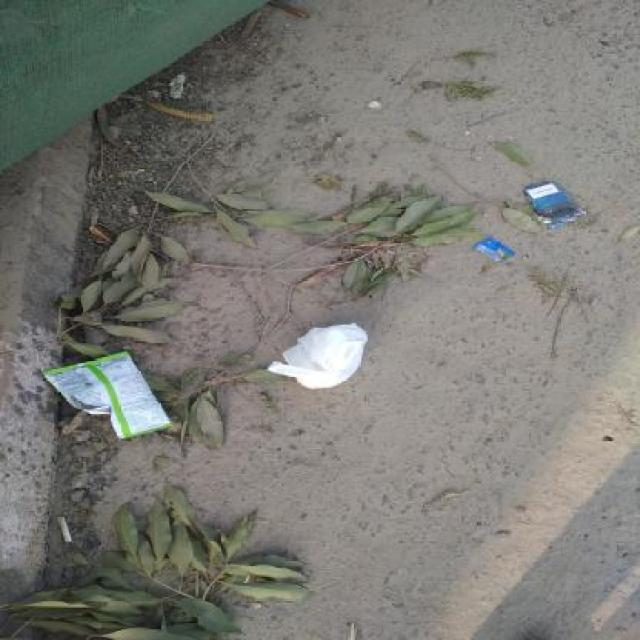garbage: (423, 138, 612, 320), (34, 337, 187, 452), (268, 317, 387, 404)
